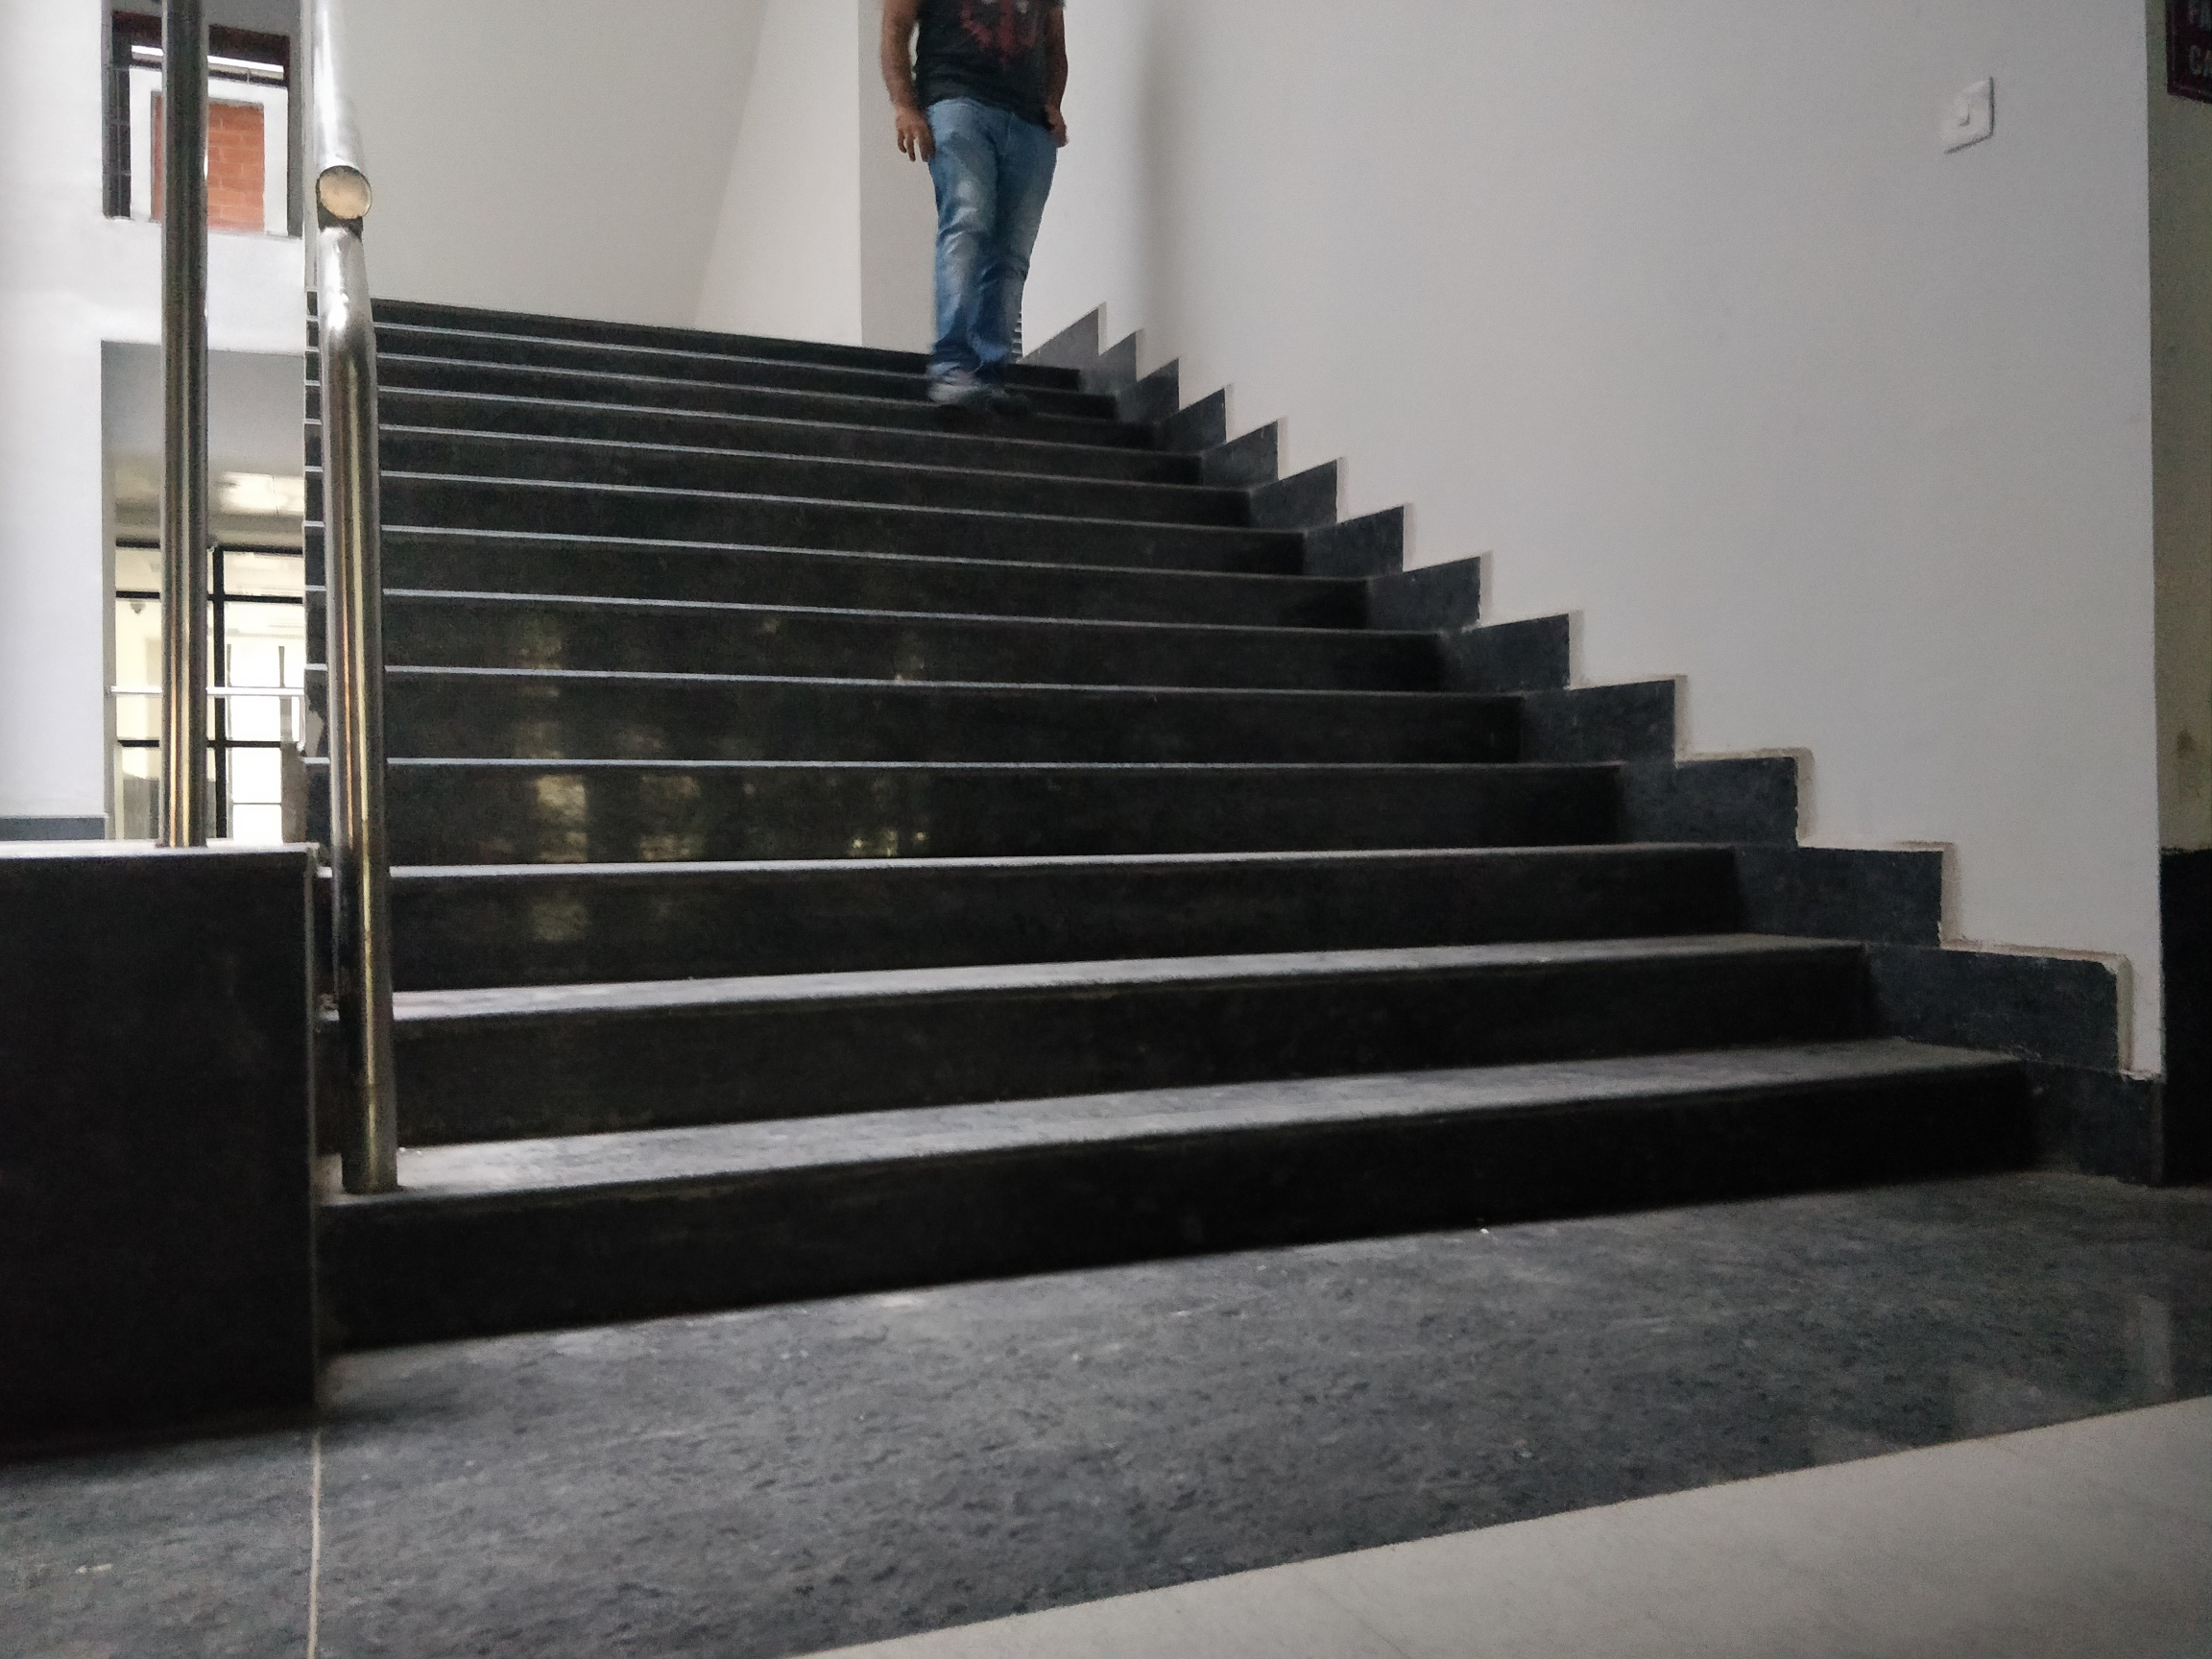stairs_up: (331, 288, 1892, 1281)
